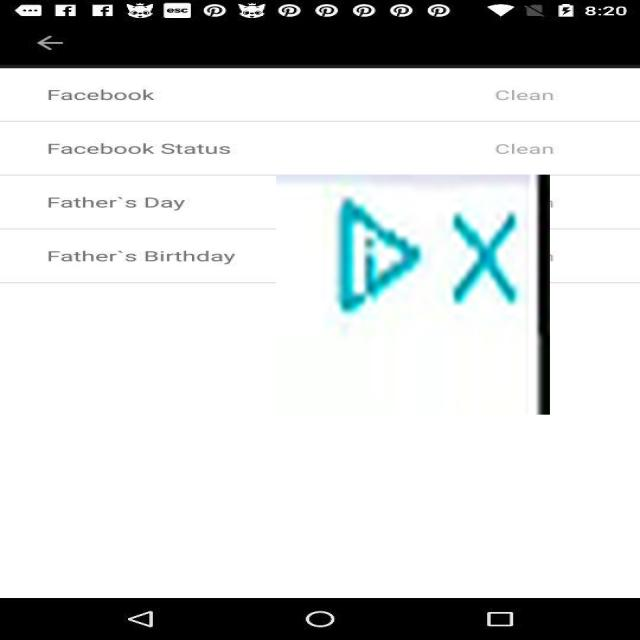sneaking: (276, 174, 550, 414)
